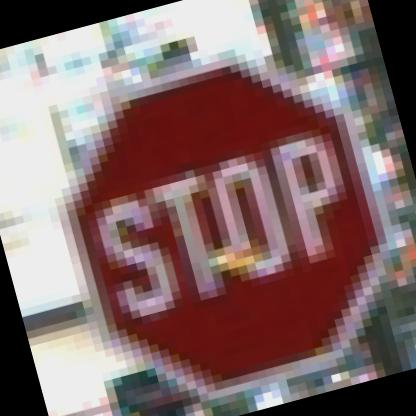stop: (35, 34, 415, 415)
